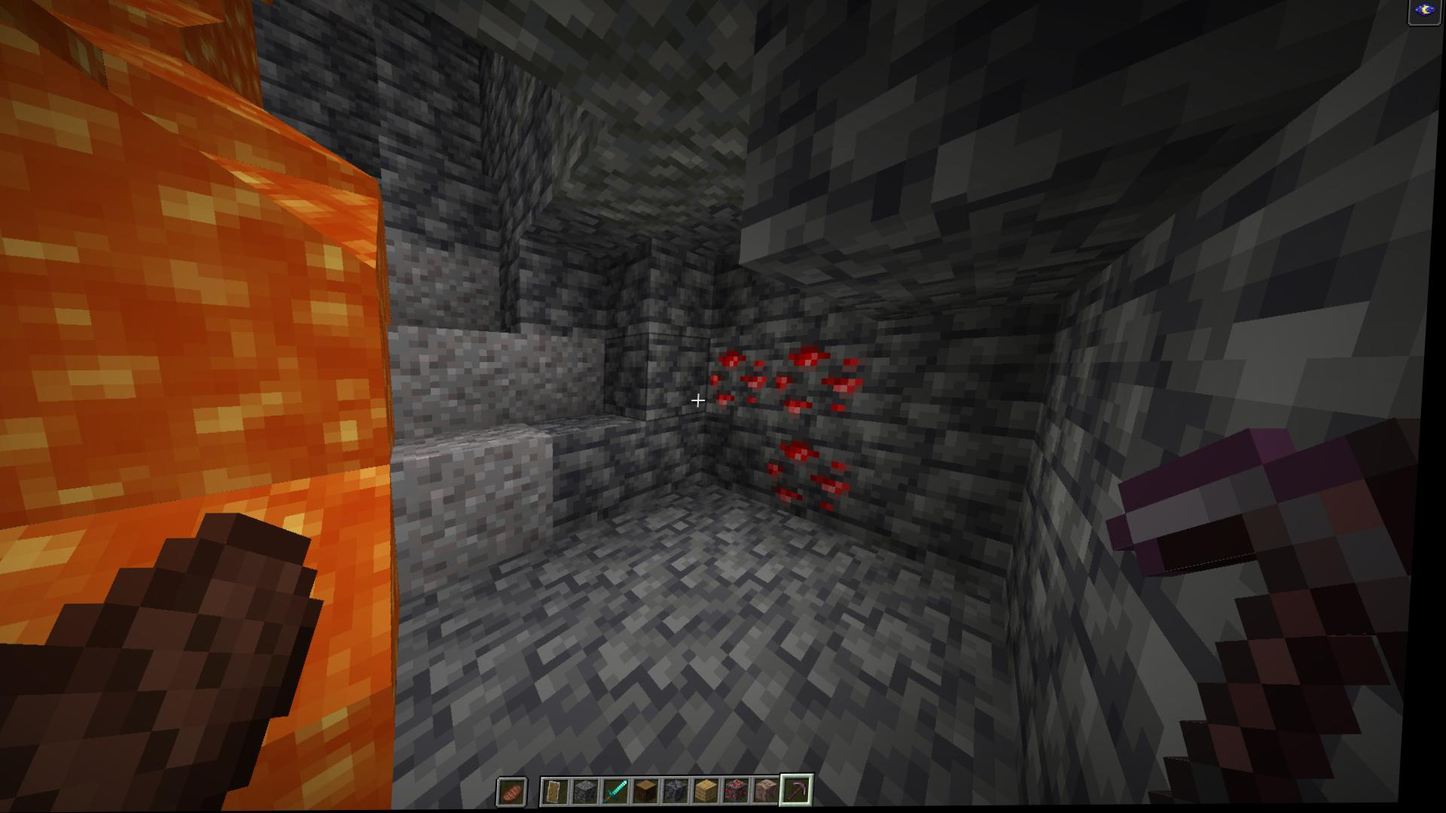redstone ore: (764, 430, 864, 522), (773, 343, 870, 426), (711, 345, 776, 417)
